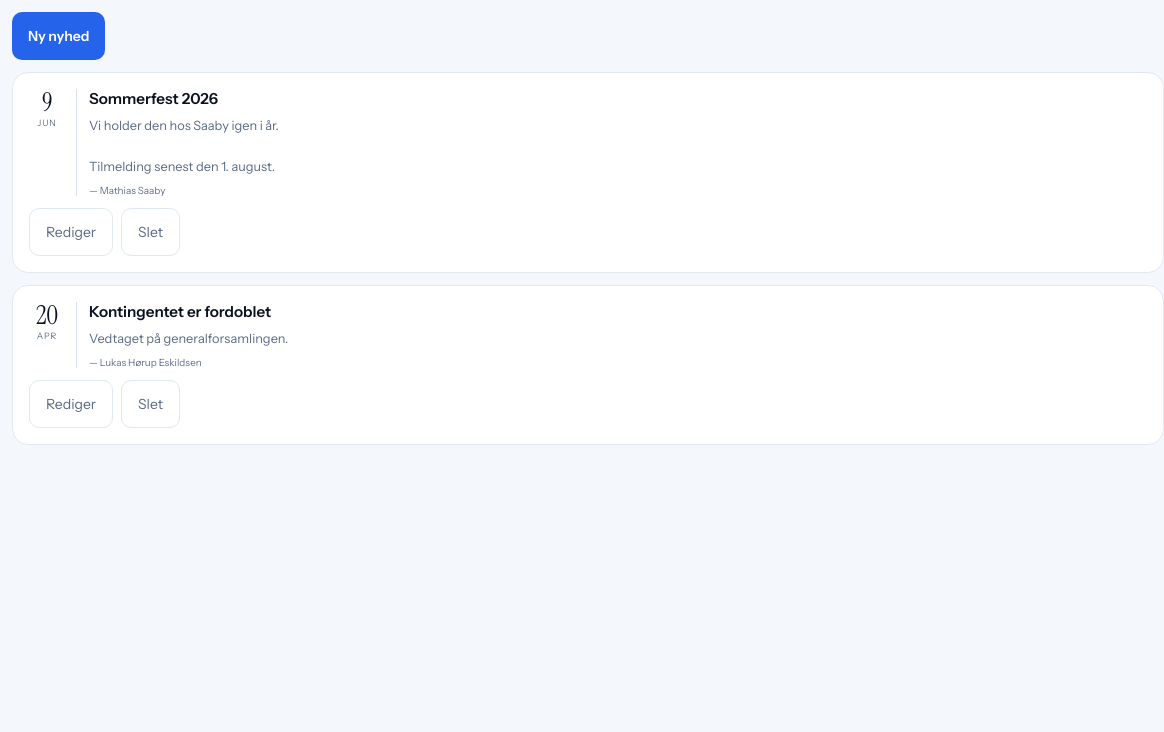
Test: writing a news item › leaves the record alone when the writer changes their mind
Expected: the heading "Sommerfest 2026" is shown, [89,89,218,108]
Click the button "Rediger" below "Mathias Saaby": click(71, 232) [29,208,113,256]
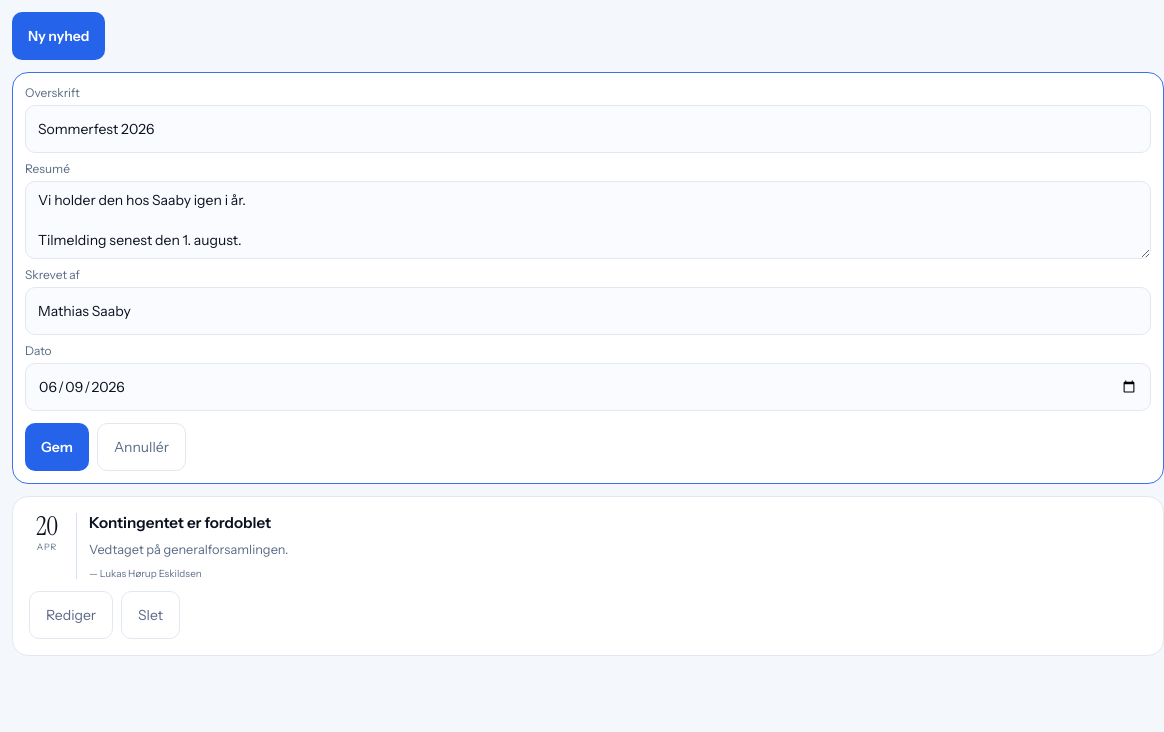
Click the button "Annullér": click(141, 447) [97,423,186,471]
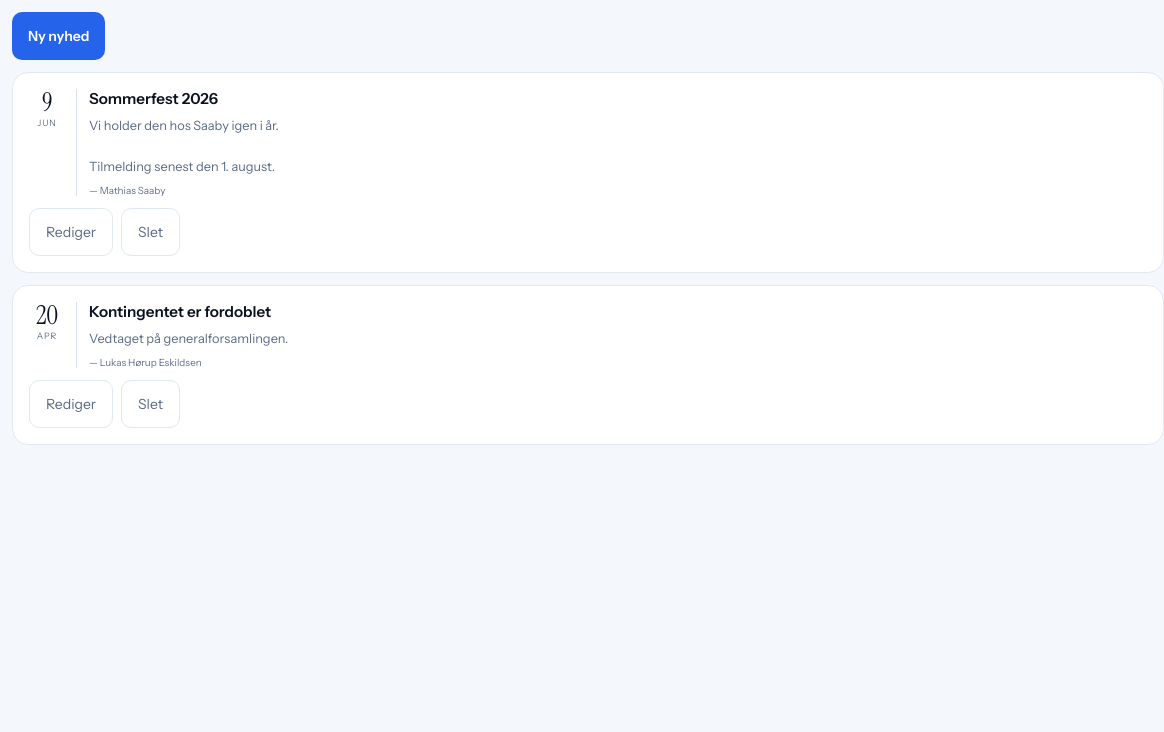
Now the heading "Sommerfest 2026" is shown, box [89,89,218,108]
